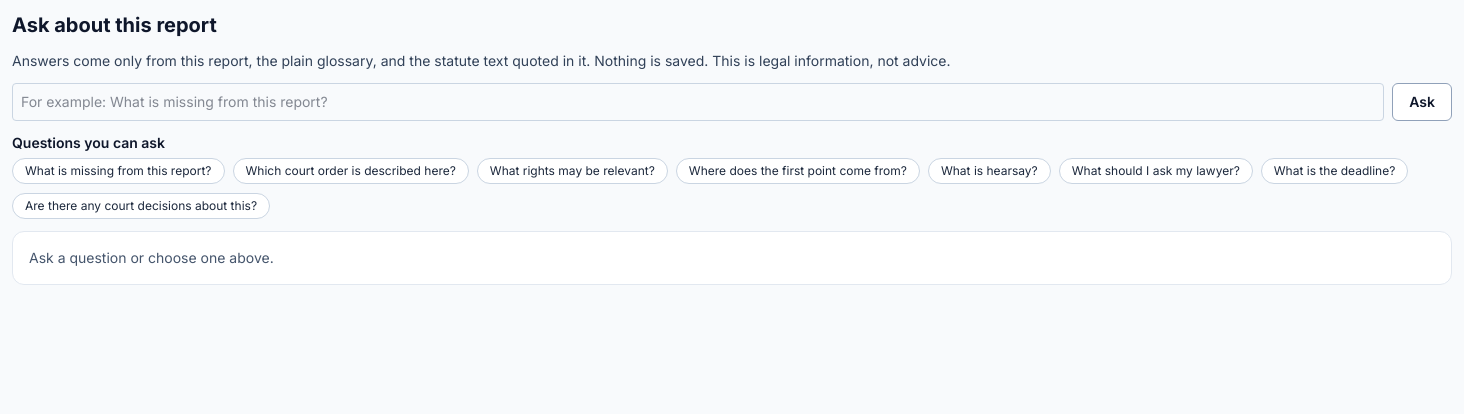
EducationalQa › answers a suggested question with one click
Click the button "What is missing from this report?" at (118, 171), box [12,158,224,184]
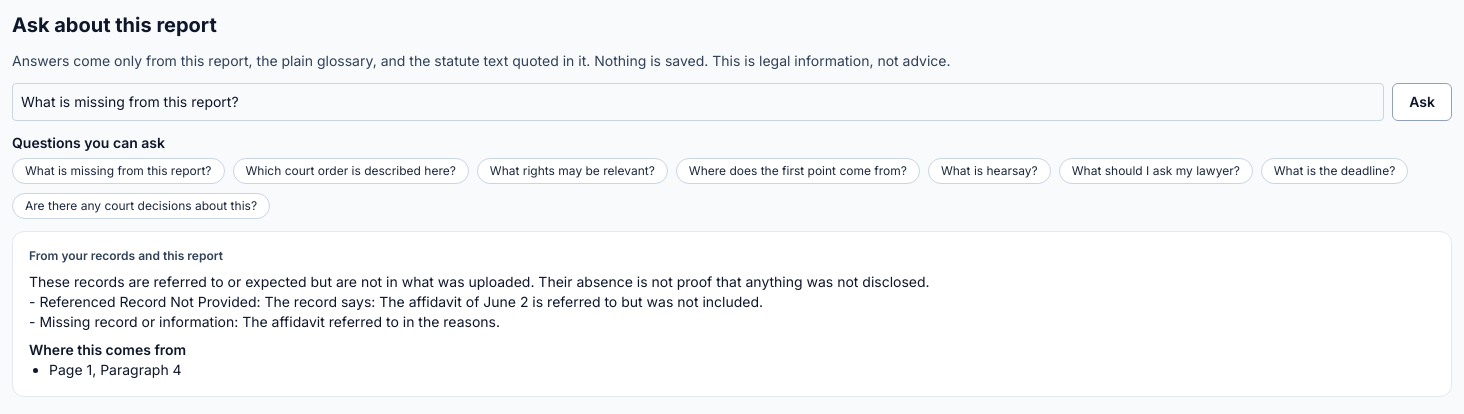
Expected: the text "affidavit" is shown, [29,273,930,330]
